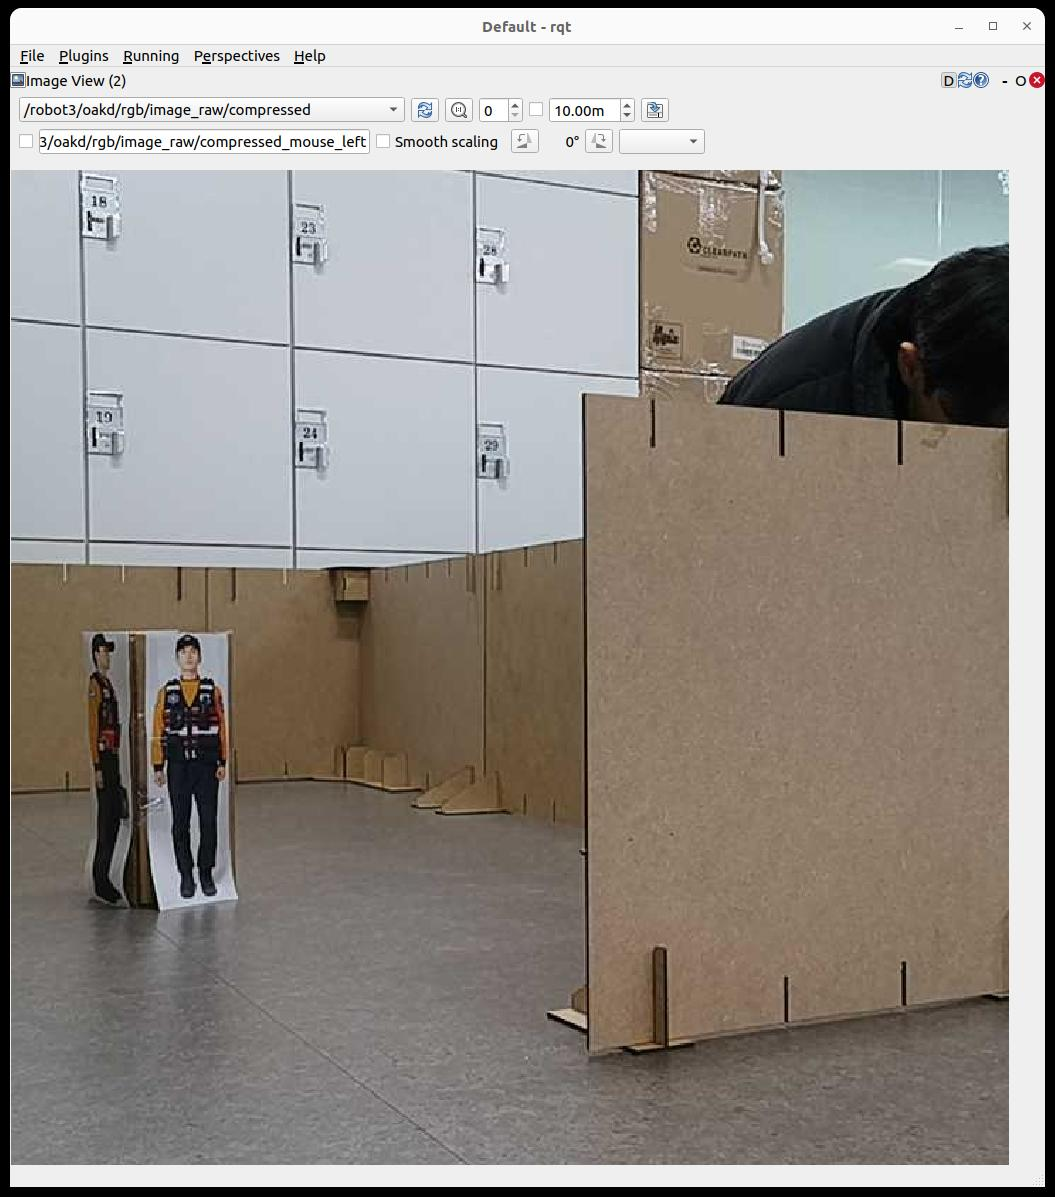Responder: (151, 636, 225, 895), (87, 633, 128, 904)
